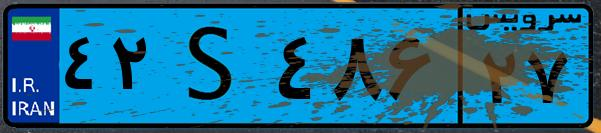2: (475, 38, 525, 113), (110, 28, 158, 98)
4: (270, 28, 330, 110), (57, 26, 110, 100)
6: (385, 28, 445, 110)
7: (525, 38, 570, 115)
8: (330, 28, 385, 110)
S: (158, 12, 270, 120)
